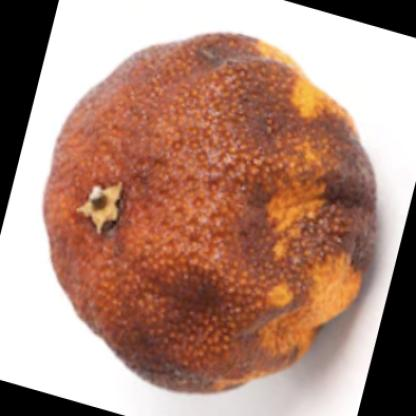rotten: (43, 33, 377, 395)
